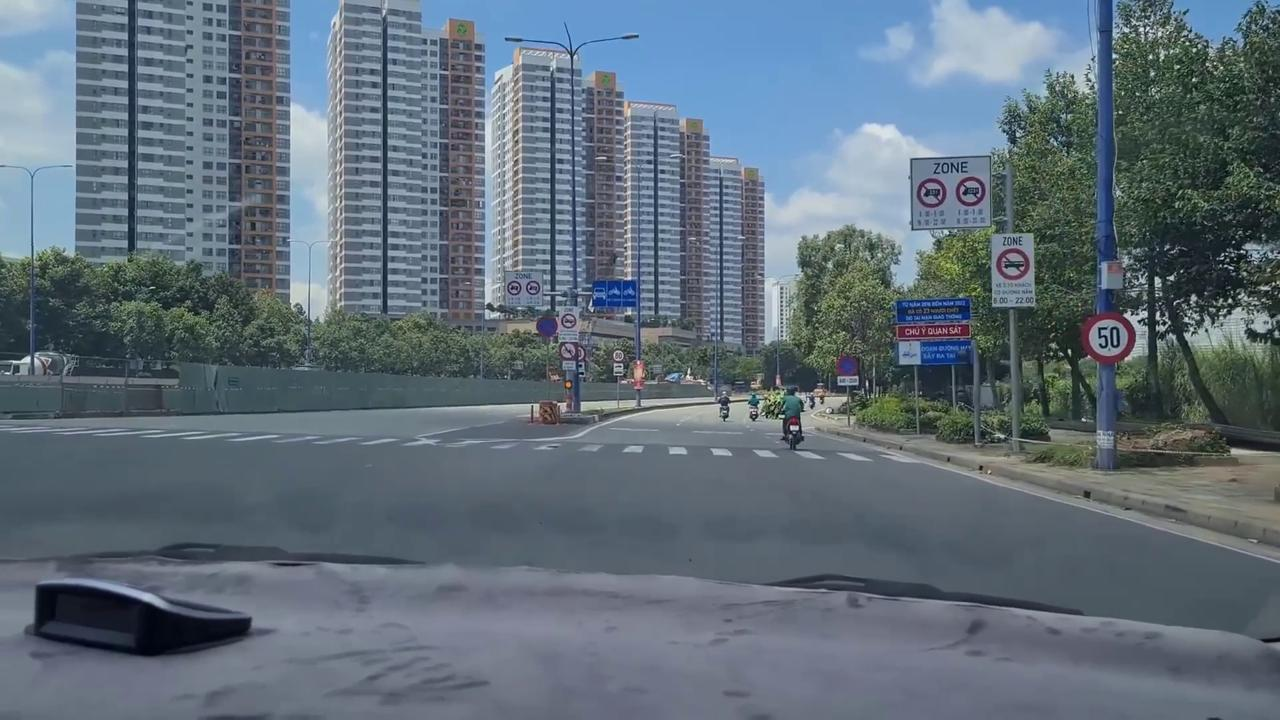Biển phụ: (613, 363, 624, 377)
Cấm cac phương tiện hoạt động trong khung giờ cố định: (906, 154, 994, 229), (989, 232, 1039, 308), (503, 270, 543, 307), (557, 305, 580, 343)
Cấm dừng - Cấm đỗ: (834, 353, 860, 377), (535, 314, 558, 338)
Cấm xe máy: (558, 342, 577, 360)
Giới hạn tốc độ 50Km/h: (1080, 308, 1138, 366)
Giới hạn tốc độ 80Km/h: (612, 348, 626, 363)
Khác: (893, 298, 977, 369)
Làn đường cho từng xe: (590, 280, 638, 309)
